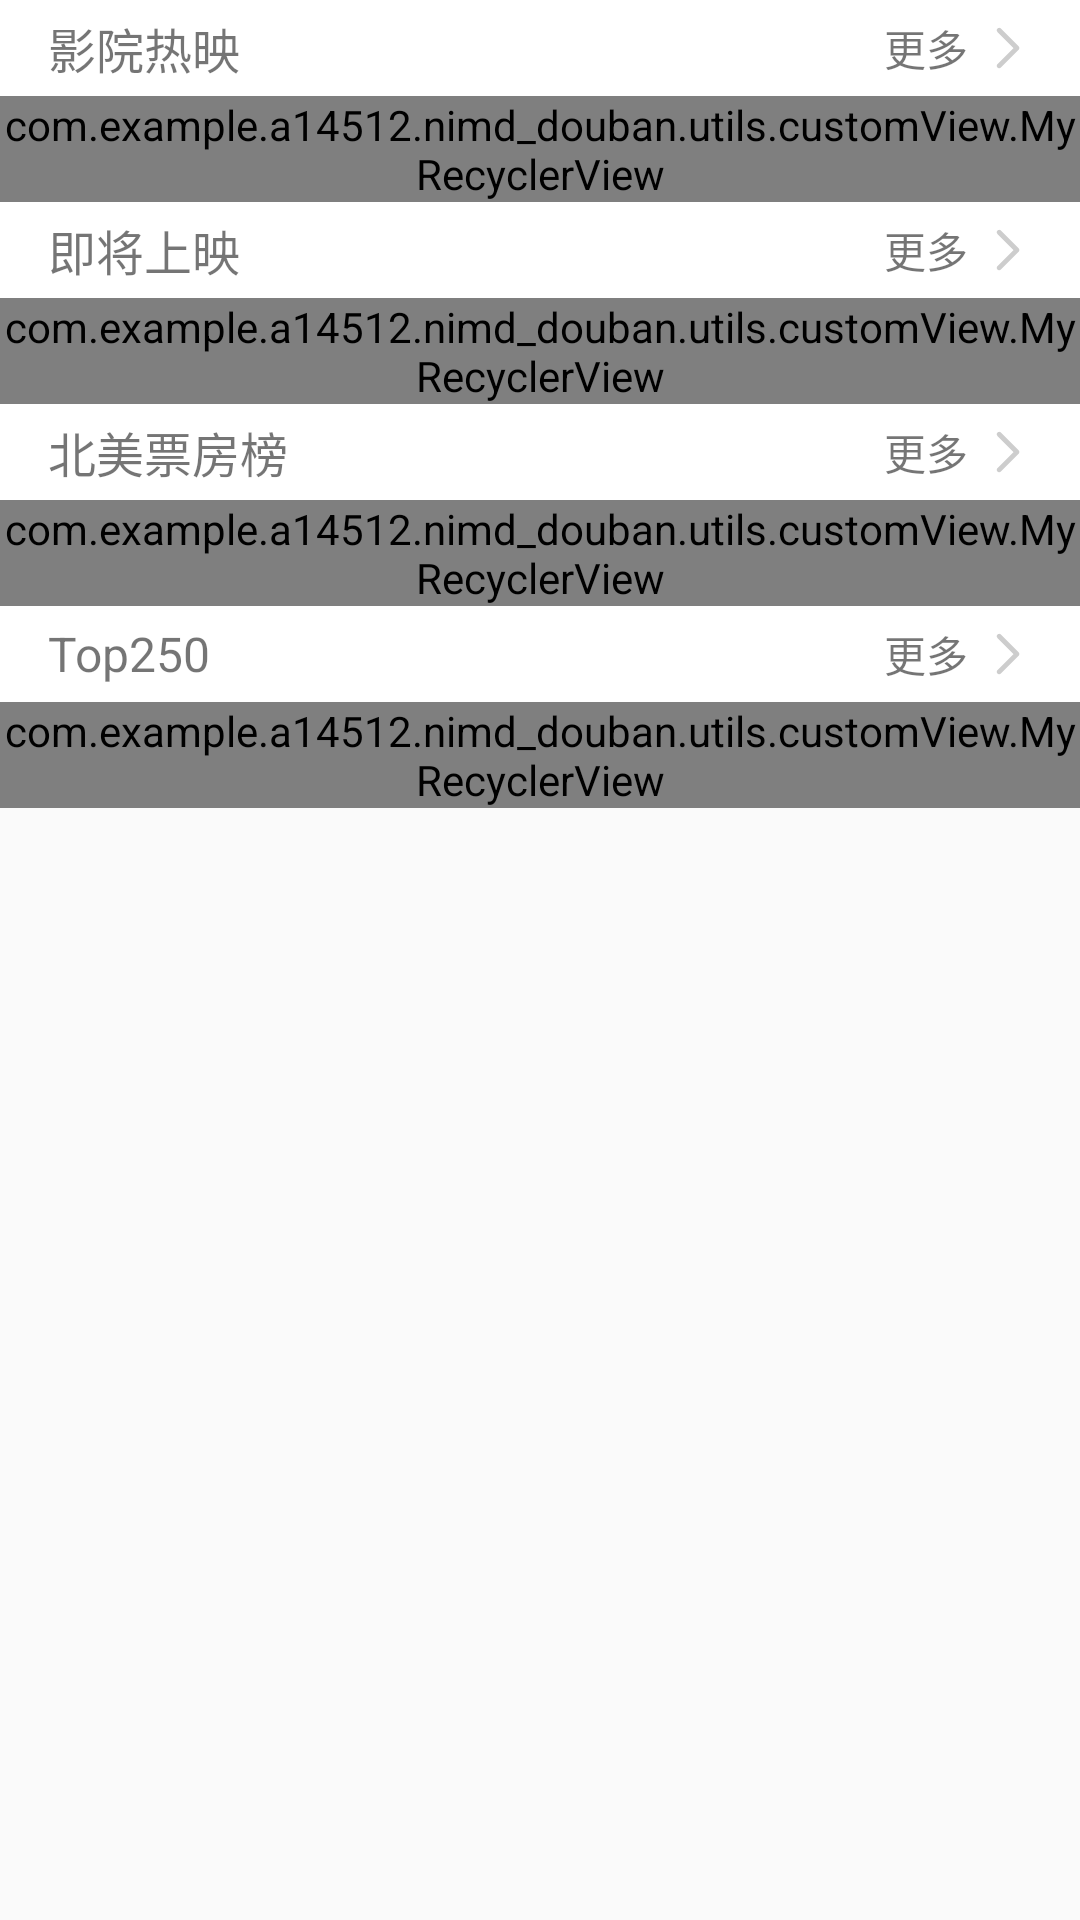

Screen size 1080 x 1920. Icon name, then its center in pixels as (x=x, y=y):
right: (x=1008, y=48), (x=1008, y=250), (x=1008, y=452), (x=1008, y=654)
